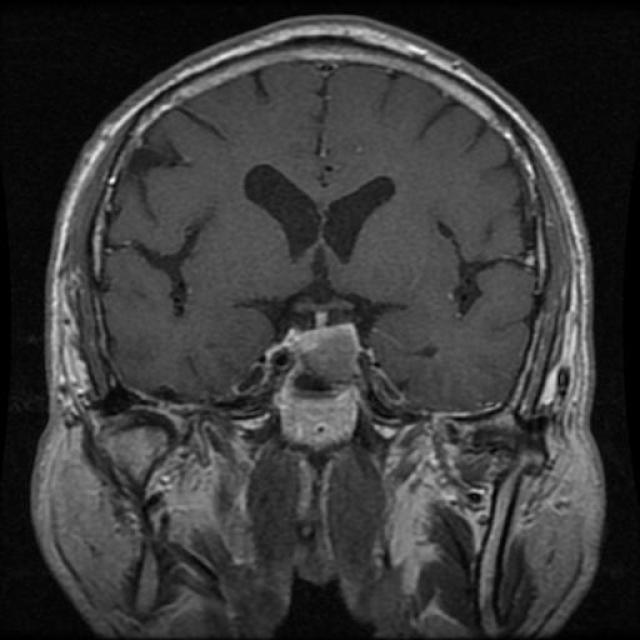pituitary: (256, 318, 374, 440)
